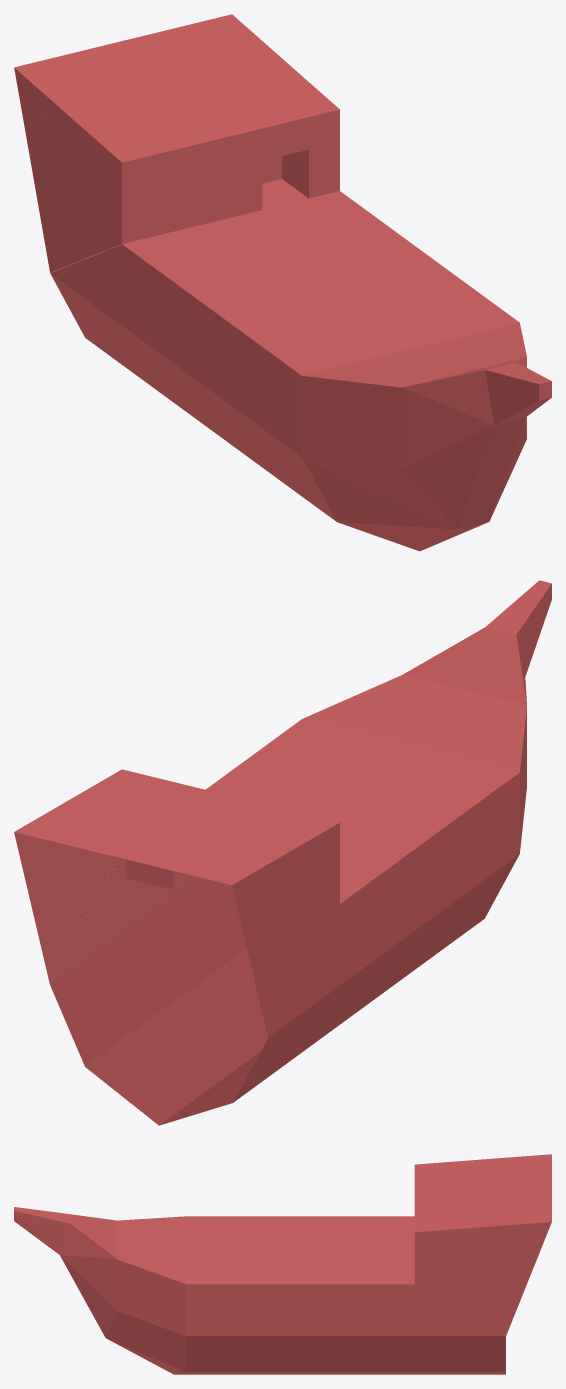
File: objcol_ki_fune_down_a.glb
The picture shows the model from 3 angles, top to bottom: view 1: azimuth 30°, elevation 25°; view 2: azimuth 150°, elevation 25°; view 3: azimuth 270°, elevation 25°; orthographic projection. The views are drawn at different scales.
Visible parts, largest first — view 1: ki_fune_down_a_col; view 2: ki_fune_down_a_col; view 3: ki_fune_down_a_col.
Boxes of the visible parts, <box> form: ki_fune_down_a_col: <box>14,14,551,551</box>; ki_fune_down_a_col: <box>14,580,551,1125</box>; ki_fune_down_a_col: <box>14,1154,551,1374</box>.
Bounding box in the file's own units: 1.4 × 1.8 × 4.7.
